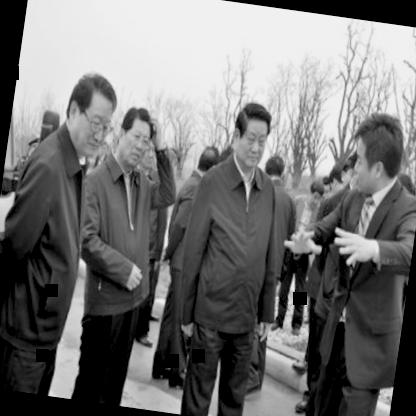head: (60, 63, 124, 166), (343, 106, 409, 202), (228, 97, 276, 176), (112, 100, 156, 174), (190, 141, 221, 190), (259, 151, 290, 190), (324, 161, 348, 202), (304, 180, 325, 212)
